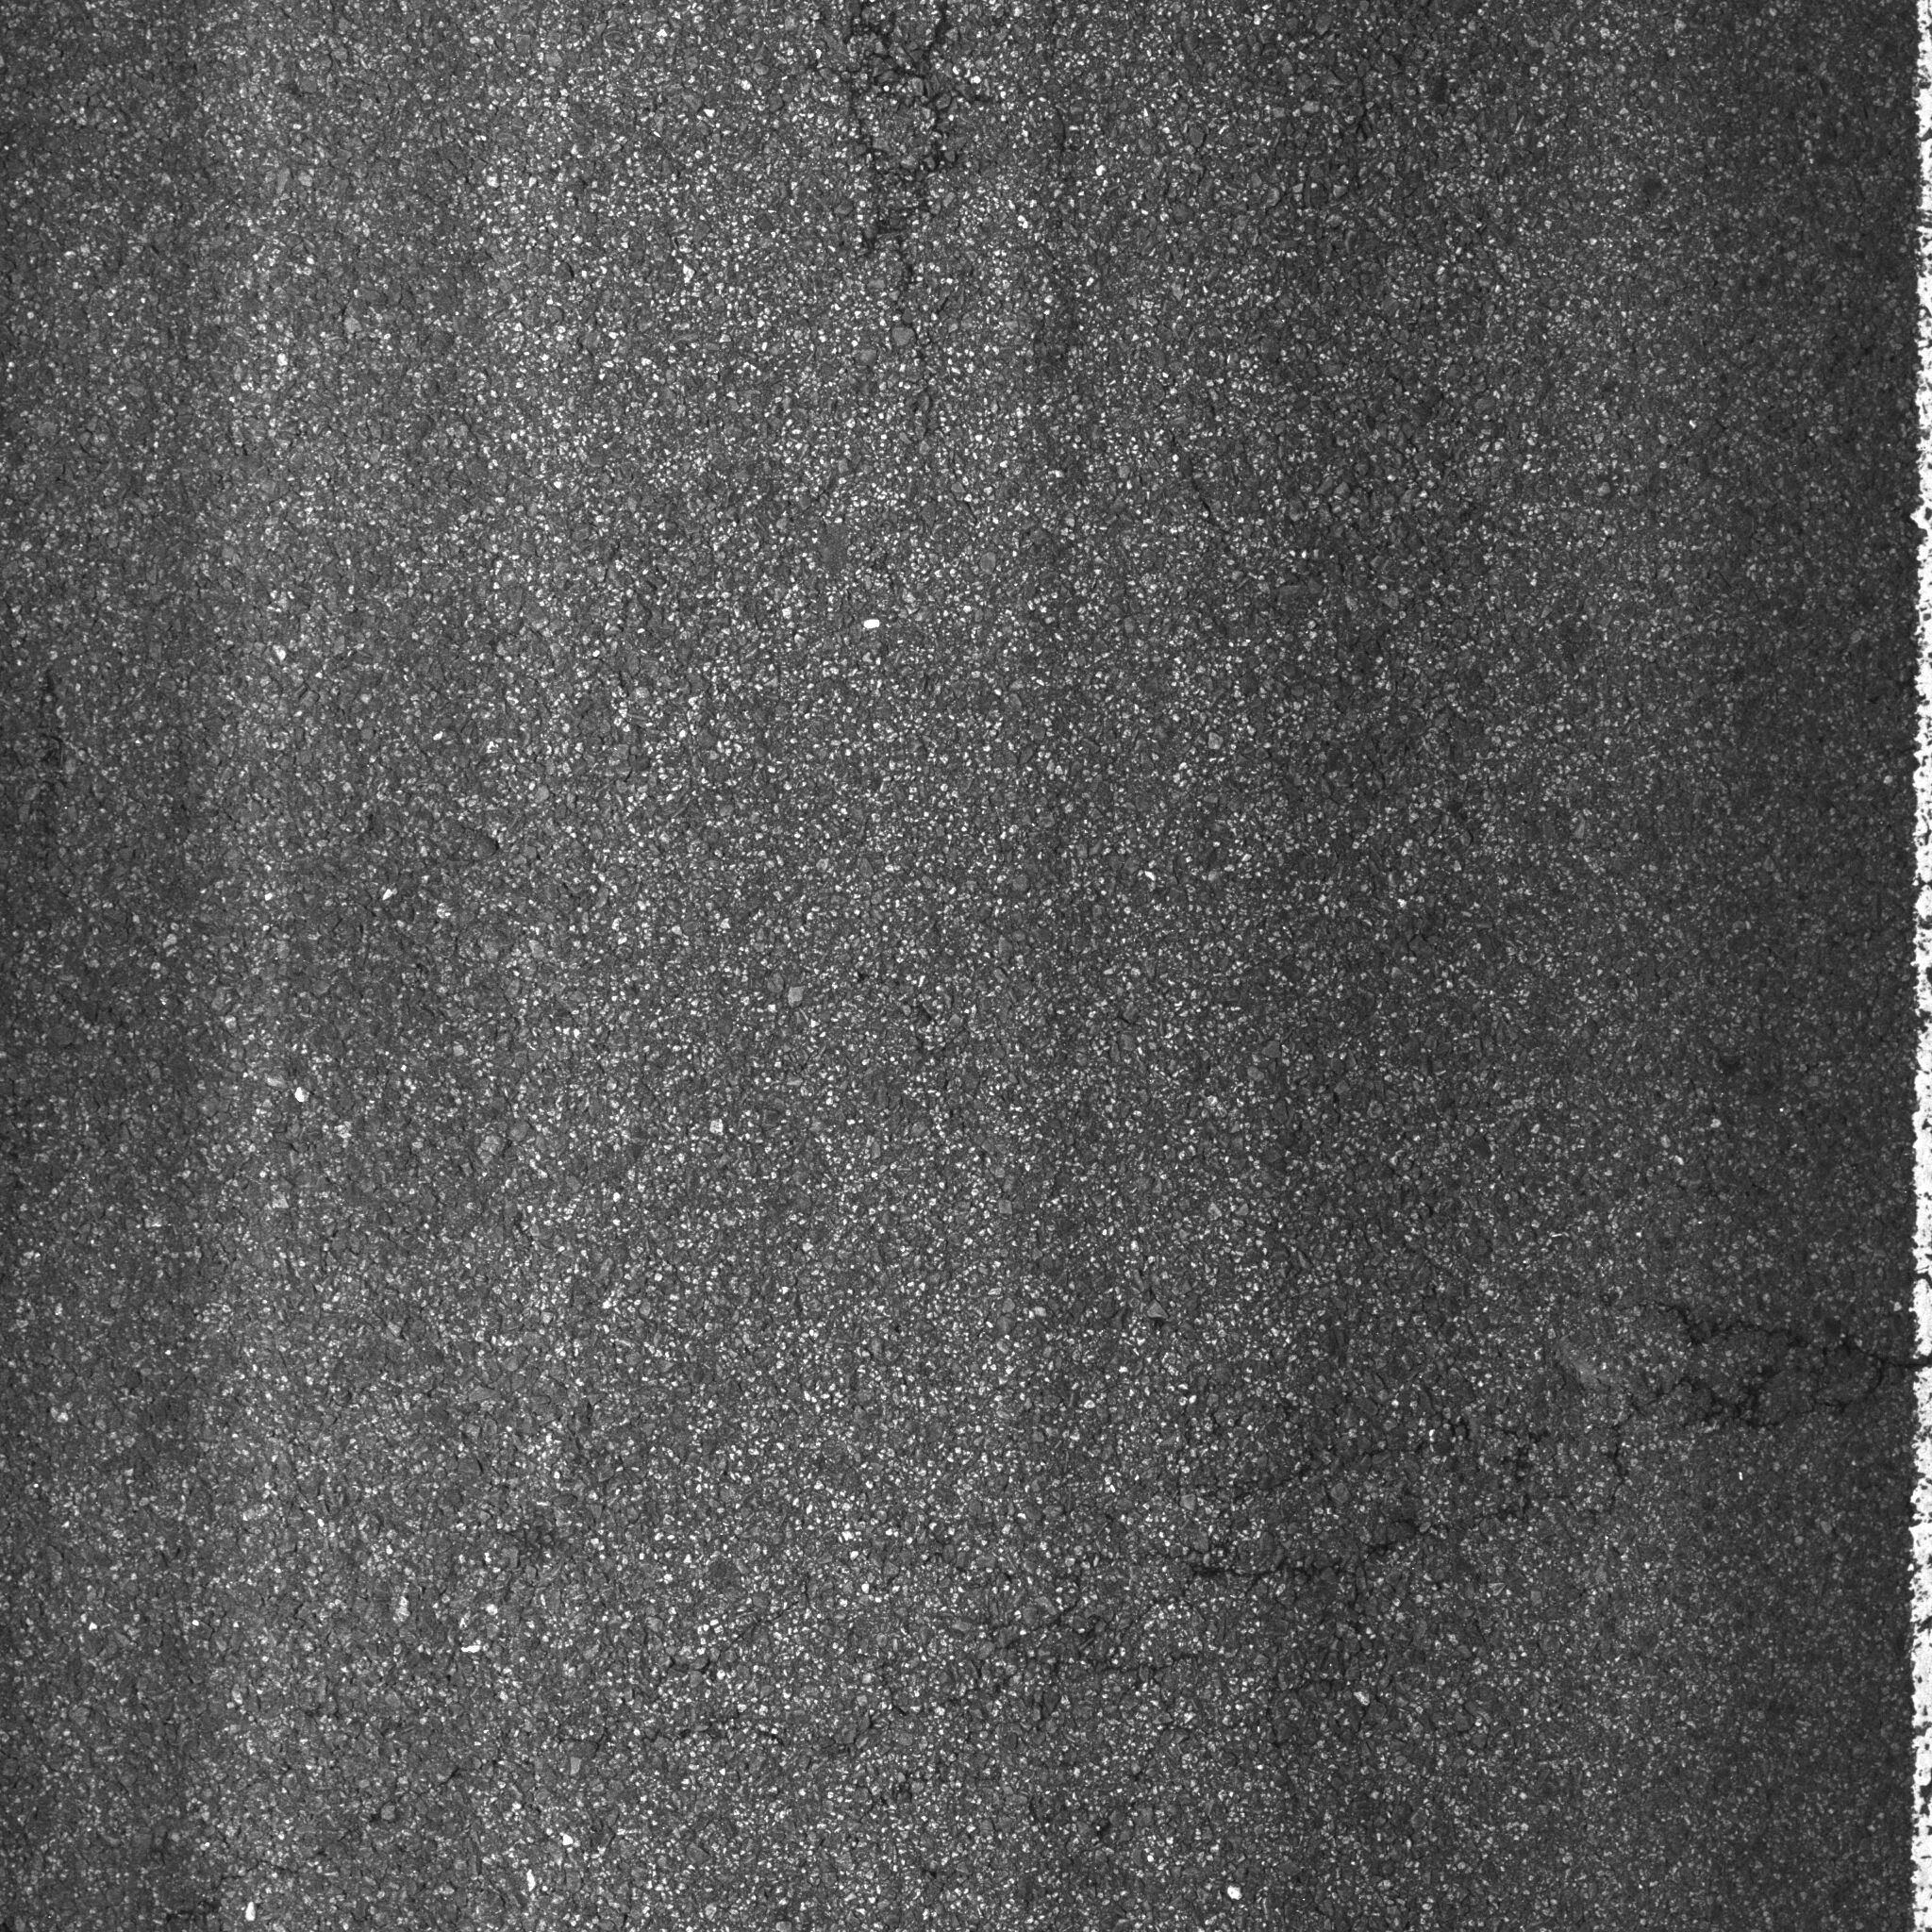transeverse: (1099, 1309, 1932, 1582), (812, 2, 993, 437)
